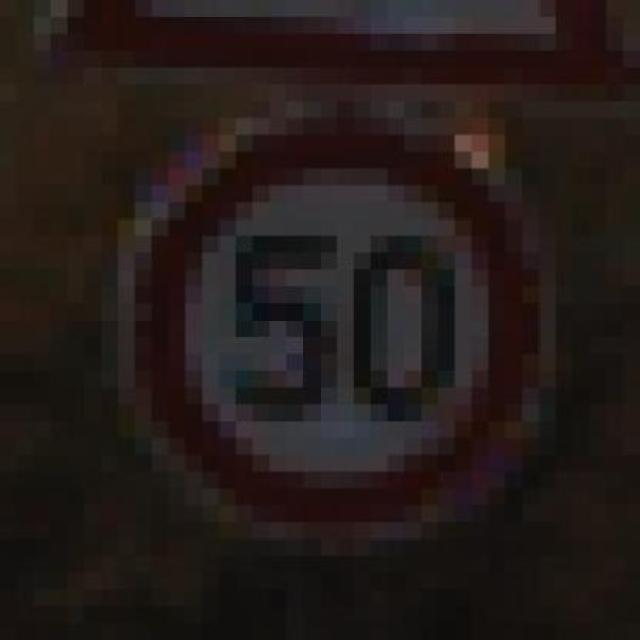forb_speed_over_50: (142, 110, 533, 535)
